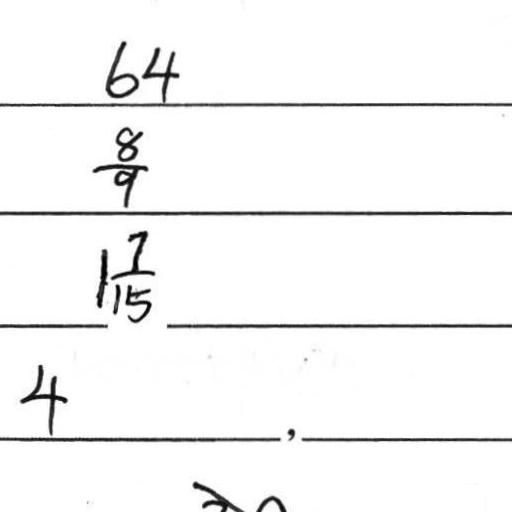ans: (88, 224, 157, 324), (99, 33, 179, 102), (88, 119, 148, 207), (15, 359, 68, 433)
